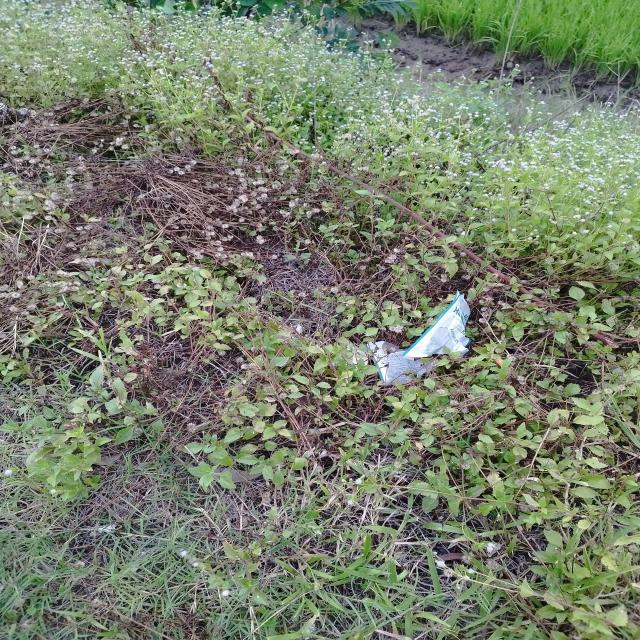bag: (402, 289, 472, 358), (364, 341, 433, 384)
